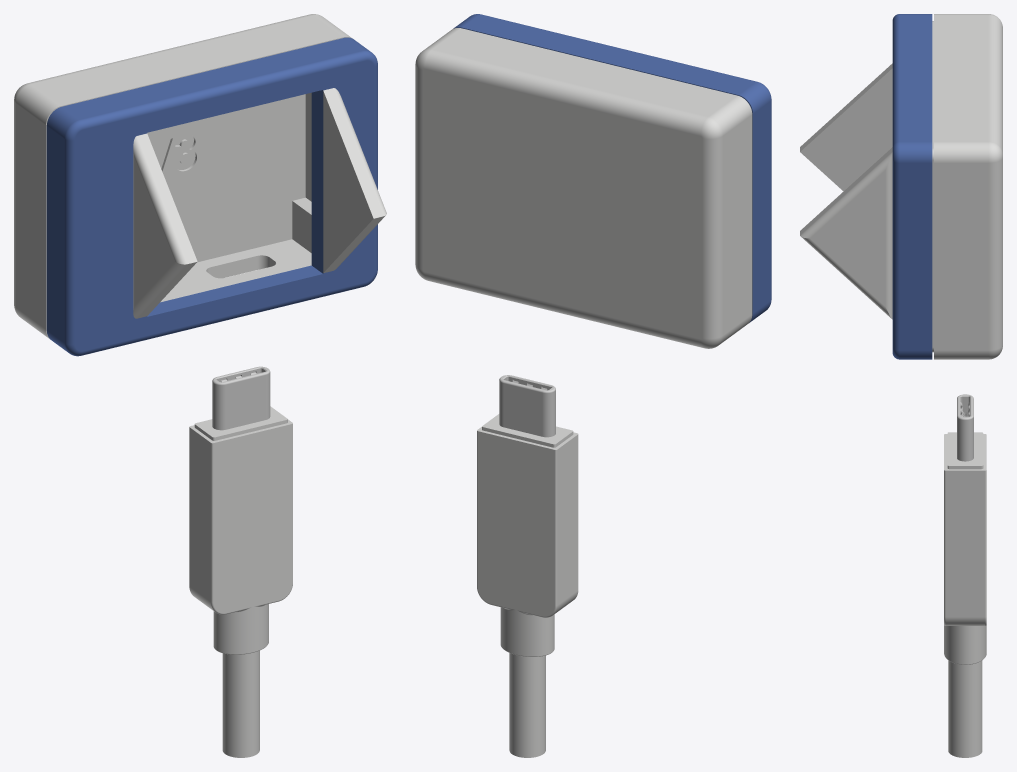
The model's file is cubit.glb.
3 renders of one model, left to right at view 1: azimuth 30°, elevation 25°; view 2: azimuth 150°, elevation 25°; view 3: azimuth 270°, elevation 25°, orthographic. The views are drawn at different scales.
Visible parts, largest first — view 1: HAT, Base, USB Overmold, Triangle Left, Triangle Right, USB Cable, USB Shell; view 2: Base, USB Overmold, HAT, USB Cable, USB Shell; view 3: Base, HAT, USB Overmold, Triangle Right, Triangle Left, USB Cable, USB Shell.
Boxes of the visible parts, x1=… form: HAT: x1=46, y1=37, x2=377, y2=356; Base: x1=14, y1=14, x2=352, y2=338; USB Overmold: x1=189, y1=406, x2=292, y2=654; Triangle Left: x1=133, y1=133, x2=197, y2=318; Triangle Right: x1=323, y1=88, x2=386, y2=272; USB Cable: x1=222, y1=650, x2=259, y2=757; USB Shell: x1=212, y1=366, x2=270, y2=430; Base: x1=415, y1=28, x2=752, y2=348; USB Overmold: x1=477, y1=414, x2=578, y2=656; HAT: x1=453, y1=14, x2=771, y2=322; USB Cable: x1=509, y1=653, x2=545, y2=757; USB Shell: x1=499, y1=375, x2=555, y2=437; Base: x1=932, y1=14, x2=1002, y2=359; HAT: x1=892, y1=14, x2=932, y2=359; USB Overmold: x1=944, y1=432, x2=986, y2=664; Triangle Right: x1=800, y1=147, x2=892, y2=319; Triangle Left: x1=800, y1=63, x2=892, y2=191; USB Cable: x1=948, y1=660, x2=982, y2=757; USB Shell: x1=957, y1=394, x2=973, y2=461.
Size of the model in its own units: 46.5 by 100 by 28.5.
